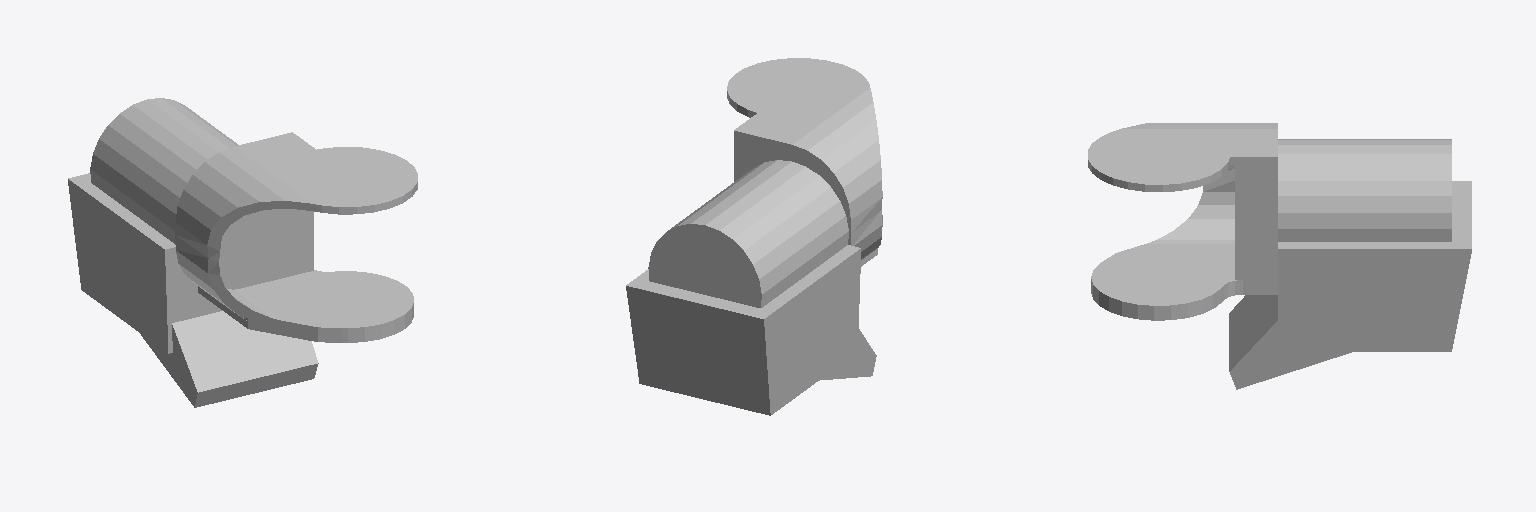
The model's file is REP.obj.
The picture shows the model from 3 angles: view 1: azimuth 30°, elevation 25°; view 2: azimuth 150°, elevation 25°; view 3: azimuth 270°, elevation 25°; orthographic projection.
Visible parts, largest first — view 1: Shape_IndexedFaceSet.003_Shape_IndexedFaceSet.054, Shape_IndexedFaceSet.001_Shape_IndexedFaceSet.052, Shape_IndexedFaceSet.002_Shape_IndexedFaceSet.053, Shape_IndexedFaceSet.004_Shape_IndexedFaceSet.055, Shape_IndexedFaceSet_Shape_IndexedFaceSet.051; view 2: Shape_IndexedFaceSet.001_Shape_IndexedFaceSet.052, Shape_IndexedFaceSet.002_Shape_IndexedFaceSet.053, Shape_IndexedFaceSet.003_Shape_IndexedFaceSet.054, Shape_IndexedFaceSet.004_Shape_IndexedFaceSet.055; view 3: Shape_IndexedFaceSet.001_Shape_IndexedFaceSet.052, Shape_IndexedFaceSet.003_Shape_IndexedFaceSet.054, Shape_IndexedFaceSet.002_Shape_IndexedFaceSet.053, Shape_IndexedFaceSet_Shape_IndexedFaceSet.051, Shape_IndexedFaceSet.004_Shape_IndexedFaceSet.055.
Boxes of the visible parts, <box> form: Shape_IndexedFaceSet.003_Shape_IndexedFaceSet.054: <box>175,132,417,322</box>; Shape_IndexedFaceSet.001_Shape_IndexedFaceSet.052: <box>68,173,222,353</box>; Shape_IndexedFaceSet.002_Shape_IndexedFaceSet.053: <box>90,98,237,244</box>; Shape_IndexedFaceSet.004_Shape_IndexedFaceSet.055: <box>140,311,318,407</box>; Shape_IndexedFaceSet_Shape_IndexedFaceSet.051: <box>198,270,413,342</box>; Shape_IndexedFaceSet.001_Shape_IndexedFaceSet.052: <box>626,245,860,415</box>; Shape_IndexedFaceSet.002_Shape_IndexedFaceSet.053: <box>648,160,848,307</box>; Shape_IndexedFaceSet.003_Shape_IndexedFaceSet.054: <box>727,58,882,259</box>; Shape_IndexedFaceSet.004_Shape_IndexedFaceSet.055: <box>819,329,876,380</box>; Shape_IndexedFaceSet.001_Shape_IndexedFaceSet.052: <box>1278,181,1471,351</box>; Shape_IndexedFaceSet.003_Shape_IndexedFaceSet.054: <box>1088,123,1277,294</box>; Shape_IndexedFaceSet.002_Shape_IndexedFaceSet.053: <box>1278,139,1451,241</box>; Shape_IndexedFaceSet_Shape_IndexedFaceSet.051: <box>1091,244,1277,320</box>; Shape_IndexedFaceSet.004_Shape_IndexedFaceSet.055: <box>1229,295,1351,389</box>.
Size of the model in its own units: 0.1038 by 0.1248 by 0.1877.